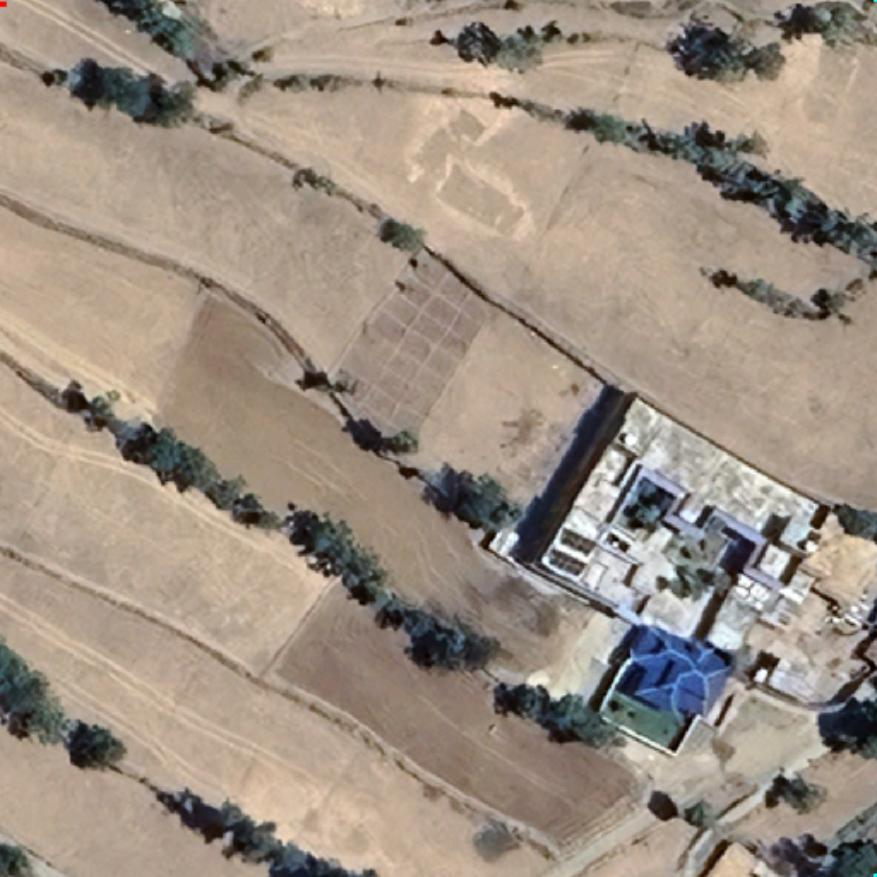Solarpanel: (554, 524, 603, 557), (540, 547, 591, 576)
